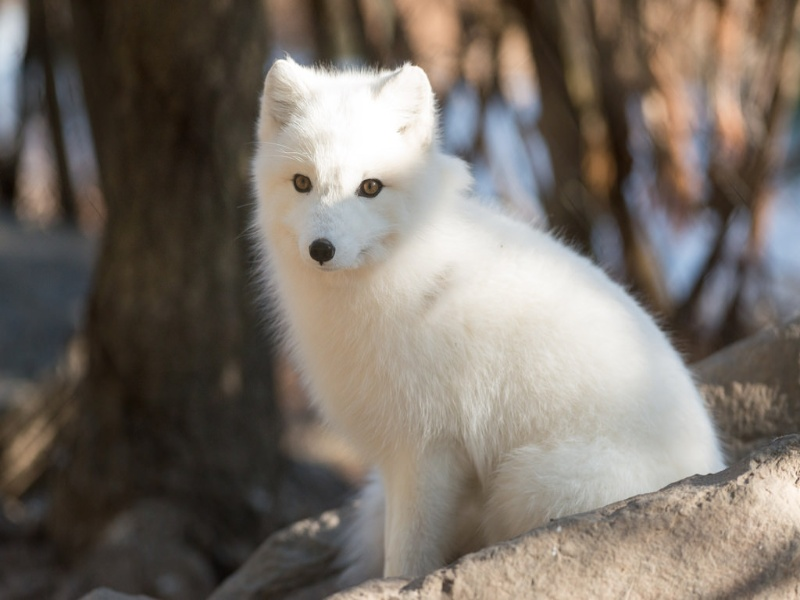fox: (251, 52, 728, 585)
